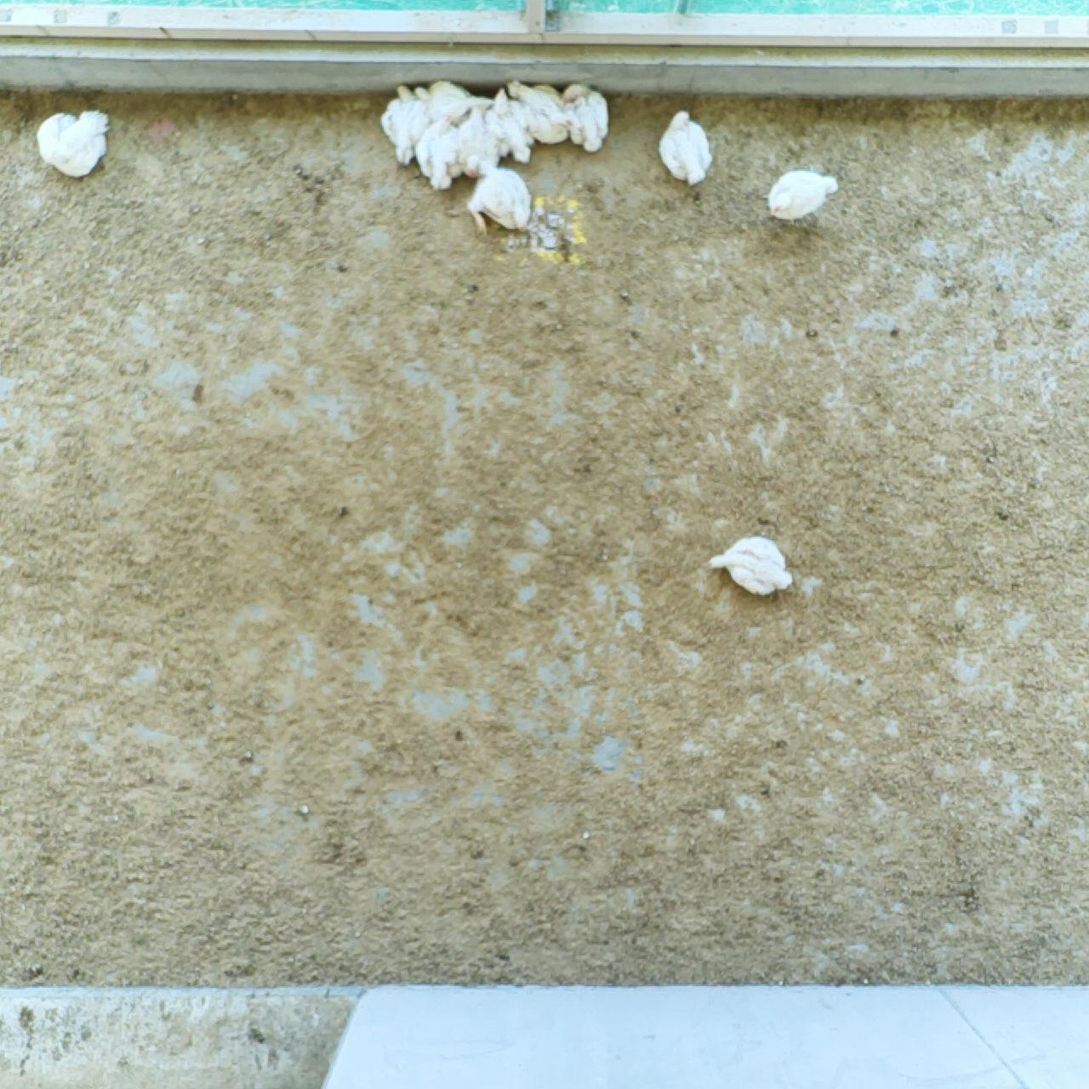chicken: (709, 528, 797, 600), (470, 154, 533, 235), (37, 109, 109, 178), (508, 77, 572, 144), (765, 168, 841, 224), (657, 109, 711, 187), (413, 113, 467, 191), (381, 81, 431, 165), (484, 86, 536, 165), (456, 105, 502, 181), (562, 83, 611, 152), (415, 77, 492, 120)
